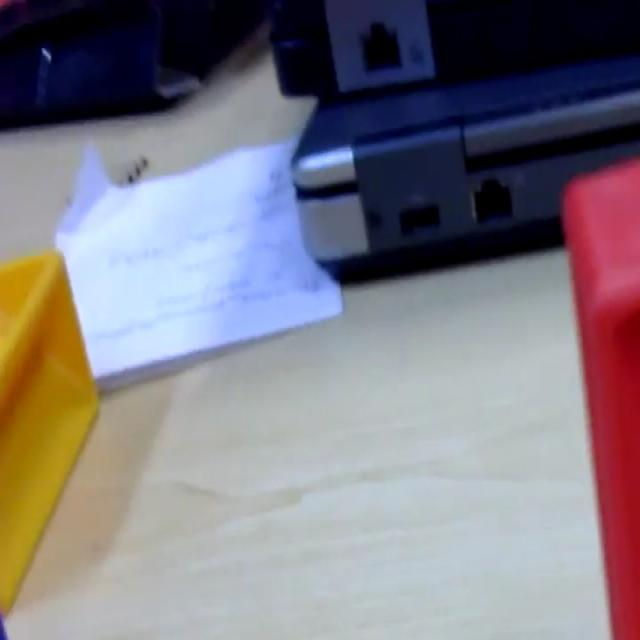red_block: (560, 153, 638, 636)
yellow_block: (0, 245, 100, 618)
